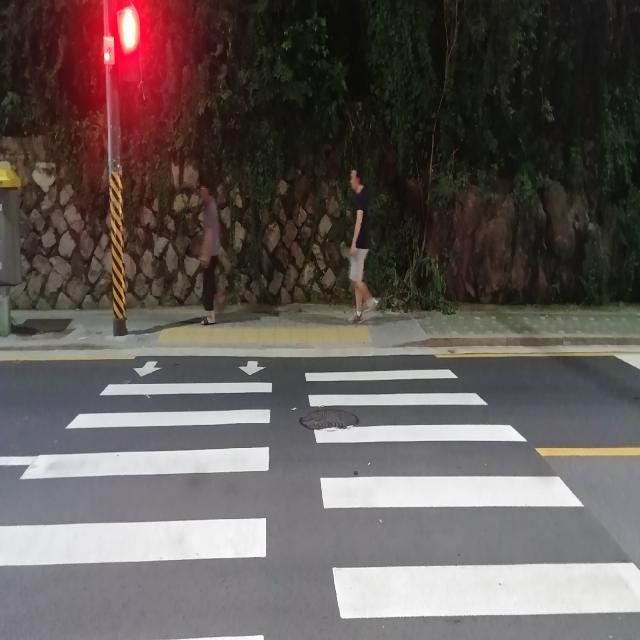빨간불: (115, 0, 141, 92)
횡단보도: (0, 356, 640, 640)
